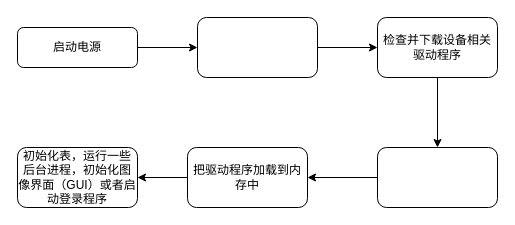
Some shapes in this 515 by 225 pixel diagram are drawn without their labels. The shapes that lost their labels are listed below. From the top down, each one's box as (x1, y1, x2, y2) in pixels, then its label:
(196, 16, 318, 78): 从ROM中加载BIOS系统
(376, 146, 498, 208): 加载操作系统
